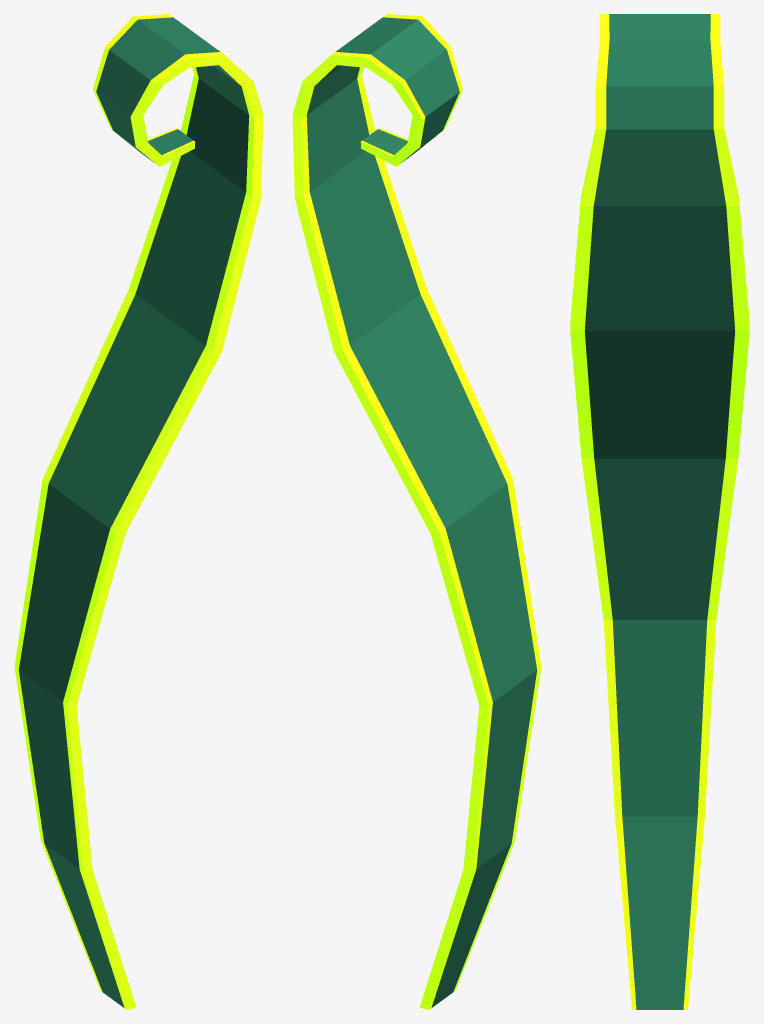
File: Leaf.fbx
3 renders of one model, left to right at view 1: azimuth 30°, elevation 25°; view 2: azimuth 150°, elevation 25°; view 3: azimuth 270°, elevation 25°, orthographic. The views are drawn at different scales.
Visible parts, largest first — view 1: Cube.001; view 2: Cube.001; view 3: Cube.001.
Part boxes in pixels (left/top/right/bottom): Cube.001: left=14, top=14, right=263, bottom=1009; Cube.001: left=292, top=14, right=541, bottom=1009; Cube.001: left=570, top=14, right=749, bottom=1009.
Size of the model in its own units: 13.92 by 65.74 by 10.53.
